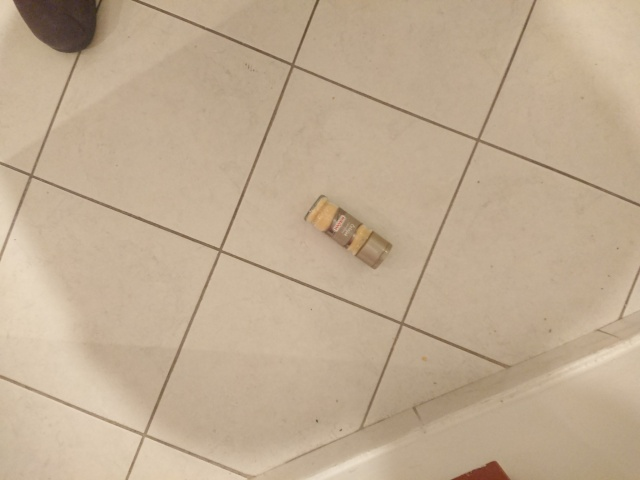Kotanyi Garlic Granules 70g: (303, 194, 395, 272)
